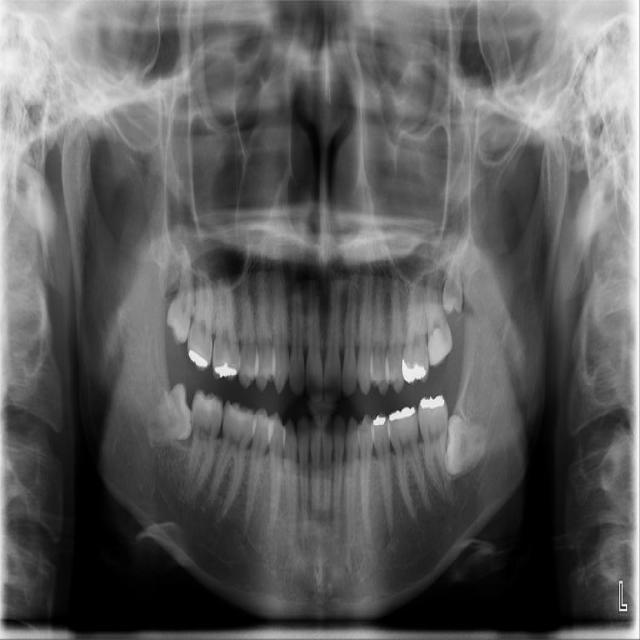Filling: (401, 359, 427, 381), (188, 349, 210, 368), (420, 395, 444, 411), (214, 362, 238, 378), (388, 408, 414, 421), (372, 416, 387, 425)
impacted tooth: (145, 383, 192, 446), (444, 415, 487, 473), (441, 246, 465, 311)
